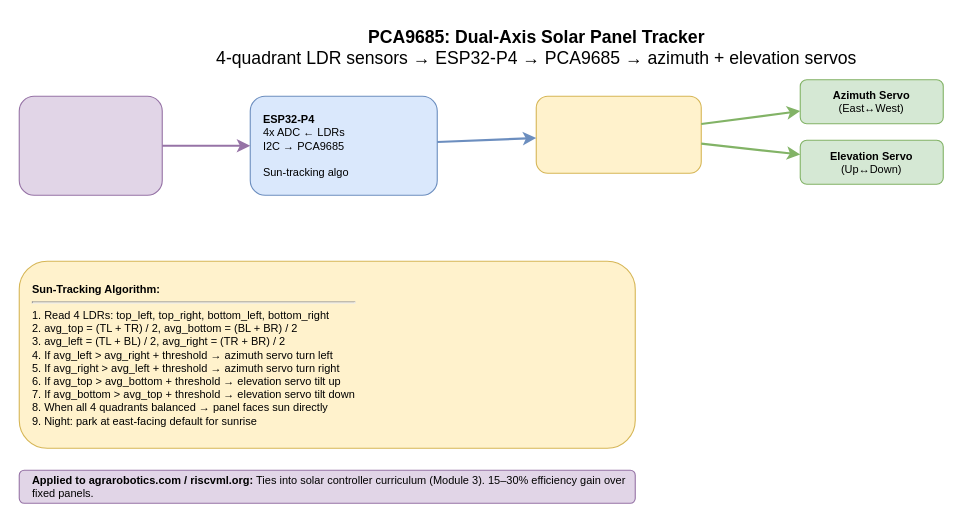
The diagram is 963 pixels wide and 523 high, and some of its shapes have lost their labels. Each missing label, with the centre of its shape:
"4x LDR Sensors (light quadrants) TL | TR BL | BR → 4 ADC inputs" belongs at pixel 90 145.
"PCA9685 CH0 = Azimuth CH1 = Elevation" belongs at pixel 618 134.
